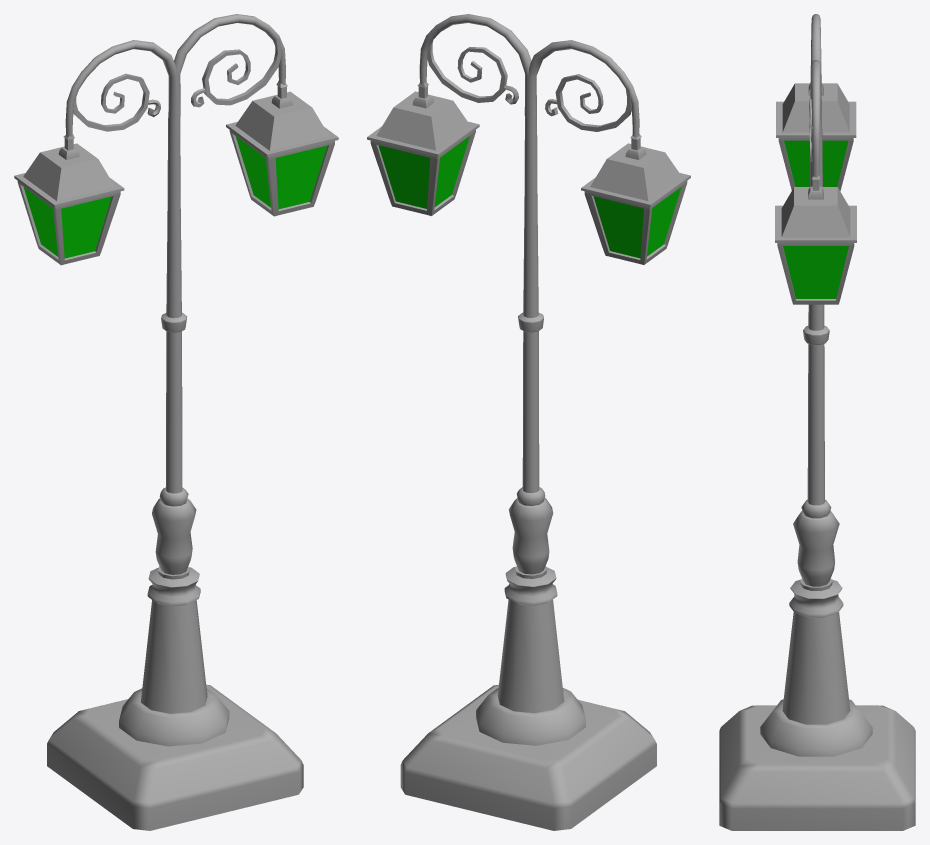
Rendered from SM_Lampadaire_1.fbx.
3 renders of one model, left to right at view 1: azimuth 30°, elevation 25°; view 2: azimuth 150°, elevation 25°; view 3: azimuth 270°, elevation 25°, orthographic.
Parts seen in each view (by area): view 1: polySurface55, polySurface56, polySurface50, polySurface59; view 2: polySurface55, polySurface56, polySurface50, polySurface59; view 3: polySurface55, polySurface56, polySurface50, polySurface59.
Boxes of the visible parts, x1,y1,x2,y2 form: polySurface55: (47,684,303,830); polySurface56: (119,117,229,746); polySurface50: (174,14,338,216); polySurface59: (14,40,177,265); polySurface55: (400,685,656,830); polySurface56: (476,117,585,745); polySurface50: (367,14,531,215); polySurface59: (528,40,690,264); polySurface55: (719,705,915,830); polySurface56: (760,129,872,756); polySurface50: (775,60,856,304); polySurface59: (776,14,856,191).
Size of the model in its own units: 127 by 320 by 76.28.
